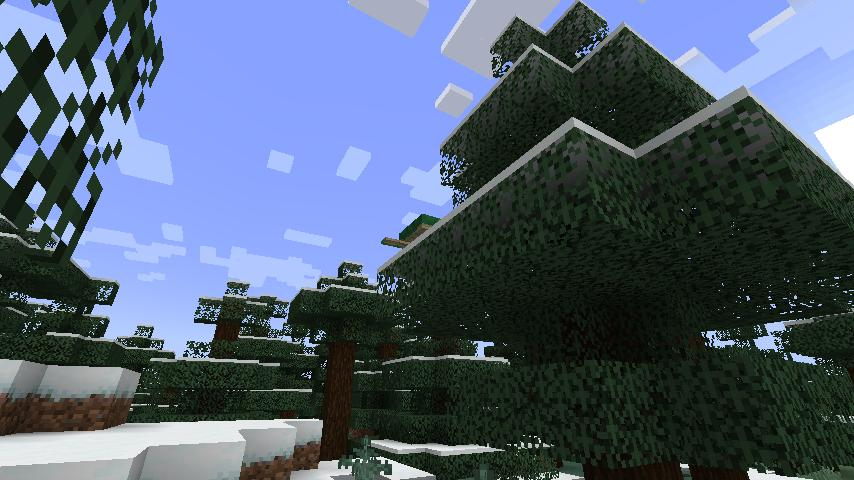turtle: (378, 209, 445, 251)
